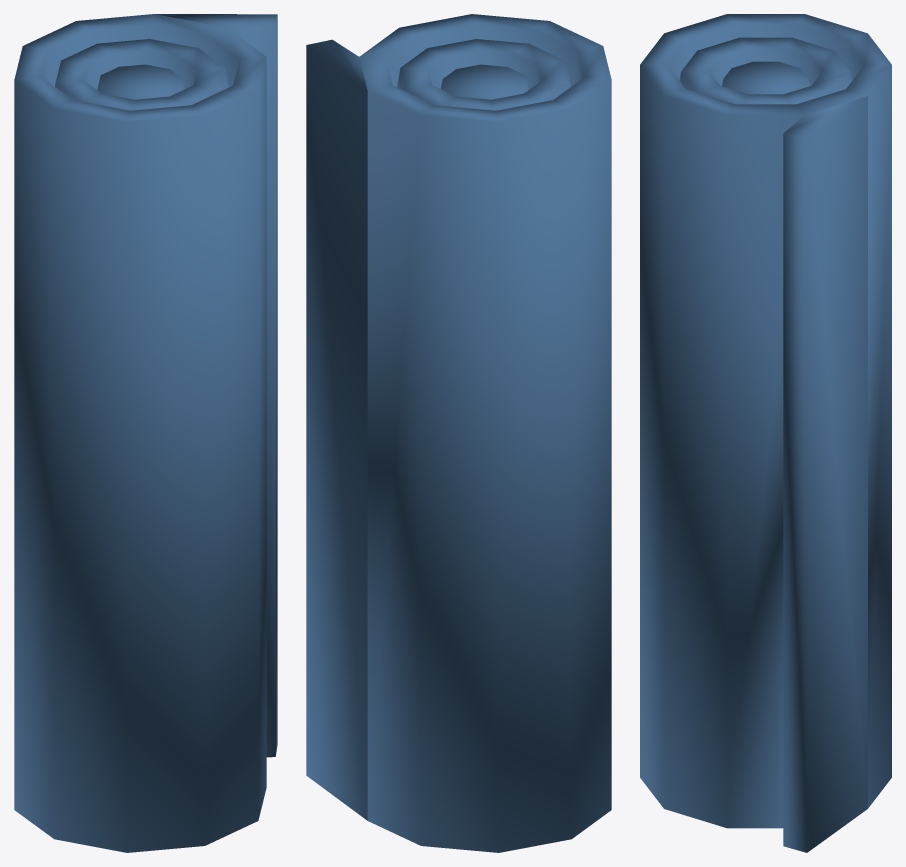
The model's file is rpgpp_ag_carpet_01c.fbx.
3 views of the same model, side by side, from view 1: azimuth 30°, elevation 25°; view 2: azimuth 150°, elevation 25°; view 3: azimuth 270°, elevation 25° (orthographic). The views are drawn at different scales.
Visible parts, largest first — view 1: rpgpp_ag_carpet_01c; view 2: rpgpp_ag_carpet_01c; view 3: rpgpp_ag_carpet_01c.
Boxes of the visible parts, x1,y1,x2,y2 form: rpgpp_ag_carpet_01c: (14,14,277,852); rpgpp_ag_carpet_01c: (306,14,611,852); rpgpp_ag_carpet_01c: (640,14,891,852).
Bounding box in the file's own units: 0.3785 × 1 × 0.32.
